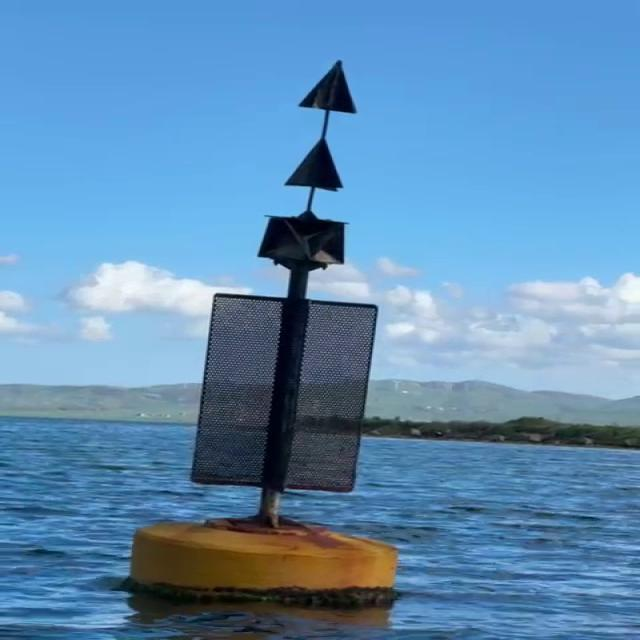marque: (134, 59, 398, 605)
